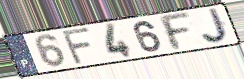4: (104, 22, 133, 60)
6: (33, 33, 67, 69), (132, 20, 164, 53)
F: (155, 12, 193, 52), (62, 26, 94, 66)
J: (200, 7, 232, 45)
